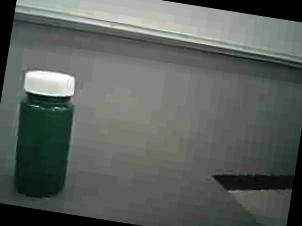Bottle C: (0, 54, 94, 213)
